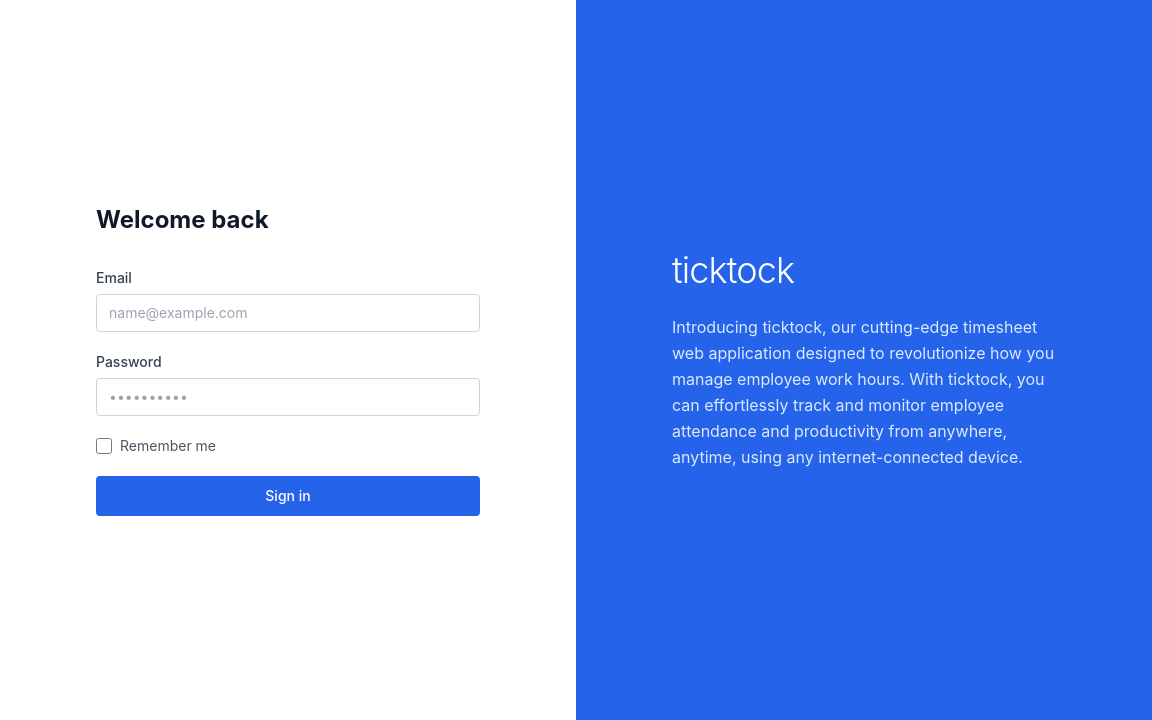
Test: LoginForm › shows invalid email error for wrong format
This screenshot has width=1152, height=720.
Type "notanemail" into the field labelled "Email". click: (288, 313)
box: x1=96 y1=294 x2=480 y2=332
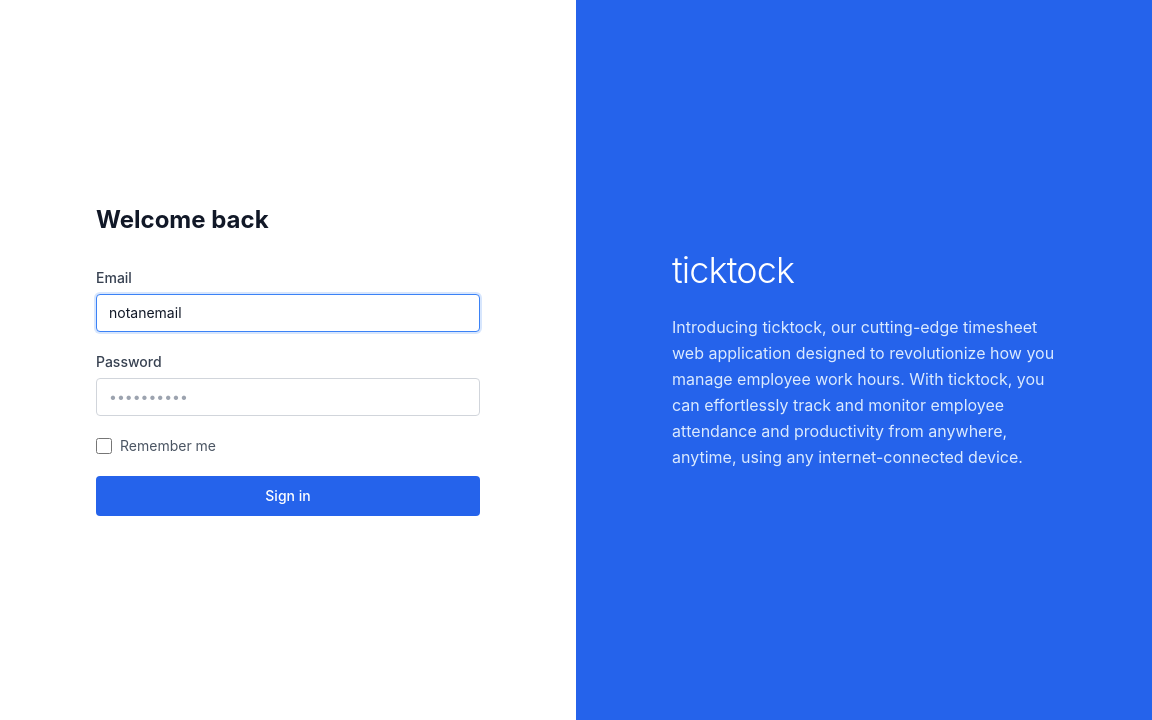
Click the button "Sign in". click: (288, 496)
box: x1=96 y1=476 x2=480 y2=516
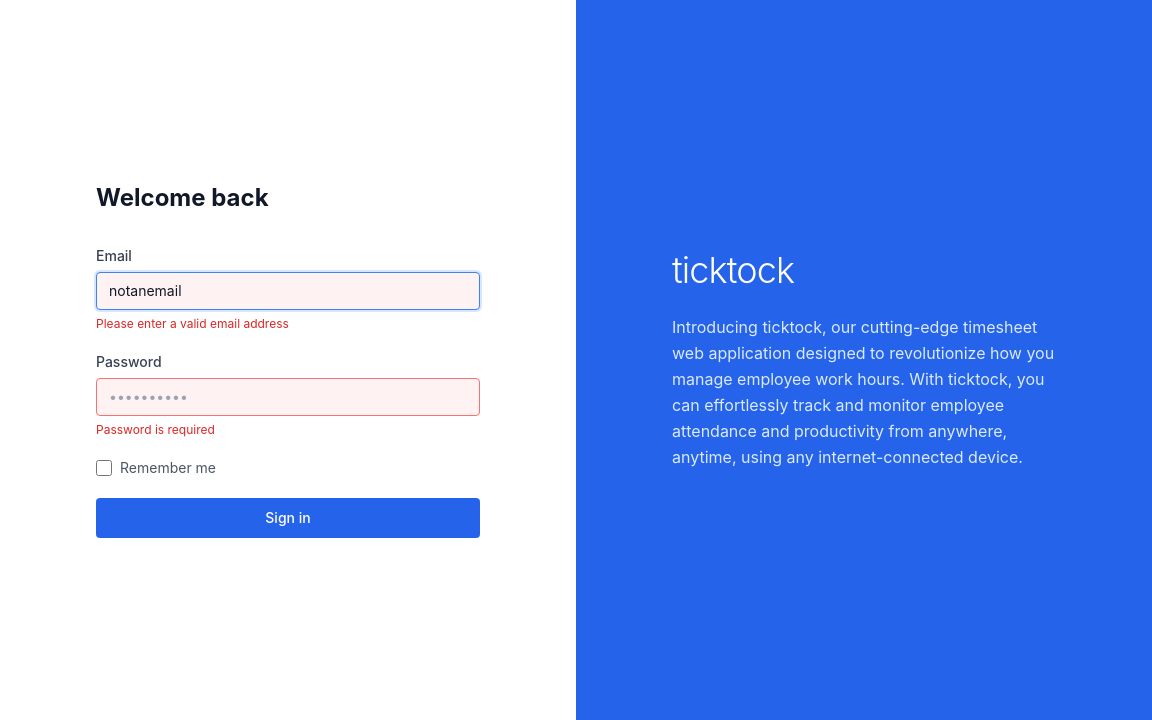
Check: the text "Please enter a valid email address" is shown, box x1=96 y1=316 x2=289 y2=331
